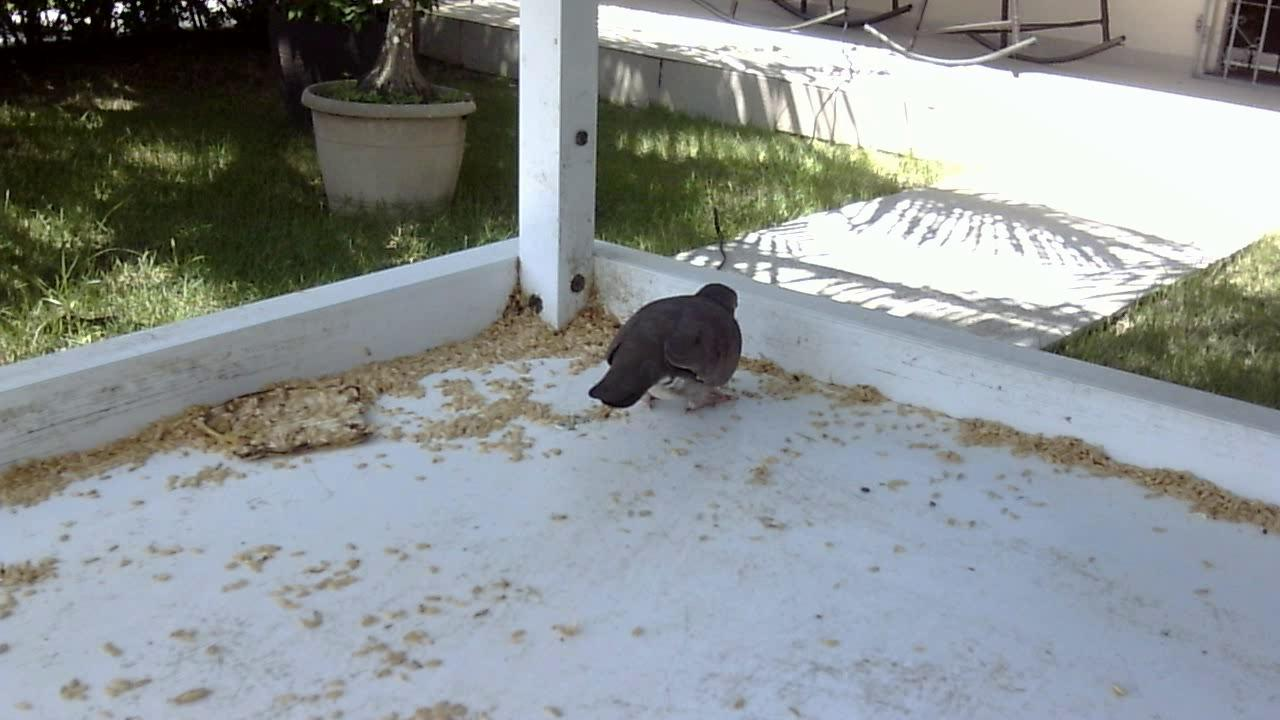rolinha: (572, 277, 753, 422)
